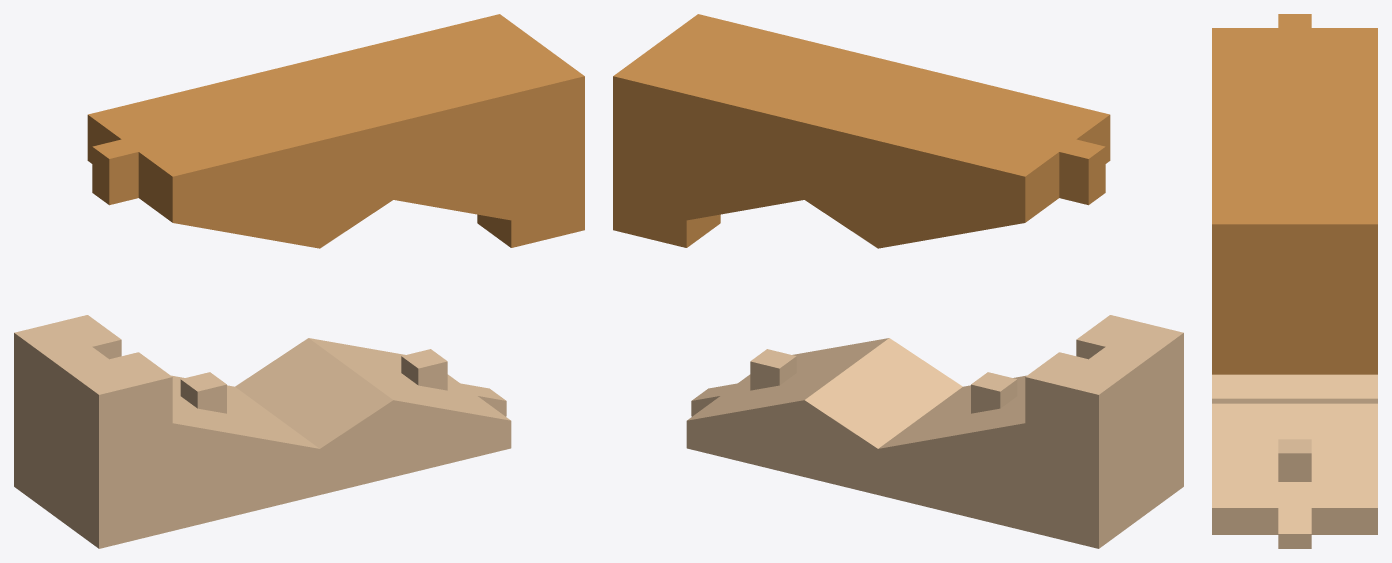
The picture shows the model from 3 angles, left to right: view 1: azimuth 30°, elevation 25°; view 2: azimuth 150°, elevation 25°; view 3: azimuth 270°, elevation 25°; orthographic projection. The views are drawn at different scales.
Size of the model in its own units: 6.6 by 4.6 by 2.
